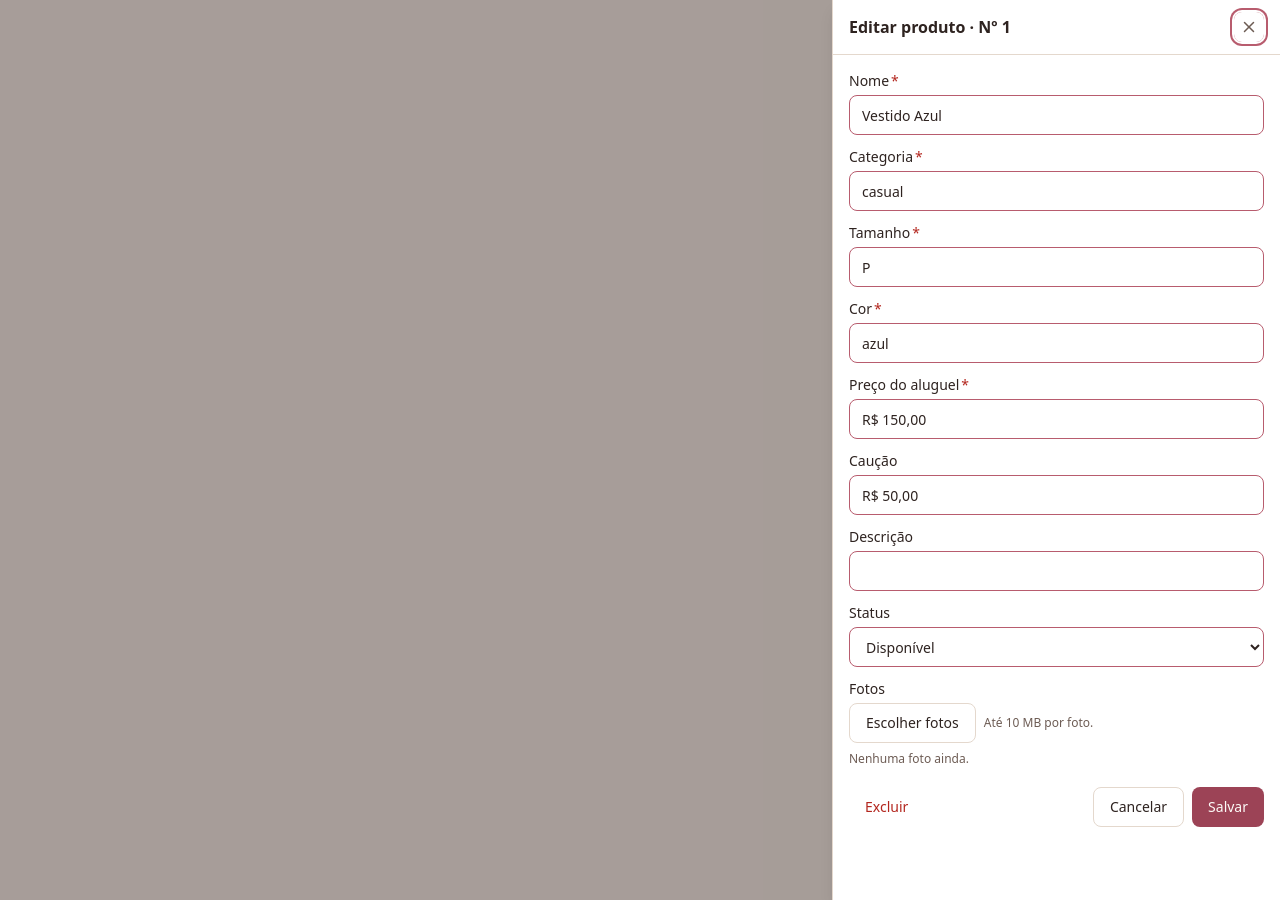
Test case: ProductDrawer › asks for confirmation before deleting, and does not delete if confirmation is dismissed
Click the button "Excluir".
click(887, 807)  # box top-left (849, 787), bottom-right (924, 827)
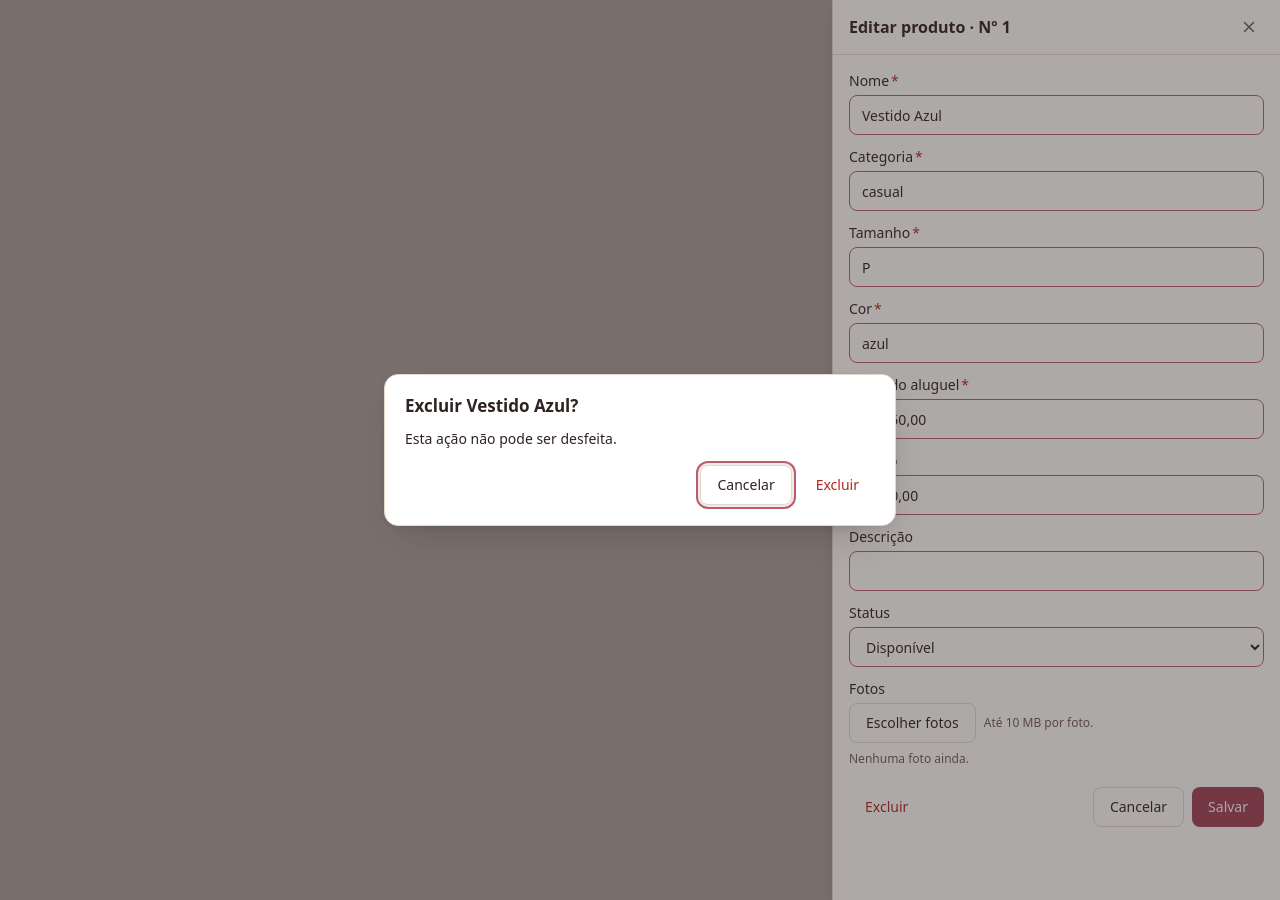
Now the heading "Excluir Vestido Azul?" is shown, box top-left (405, 394), bottom-right (578, 417)
Press Escape
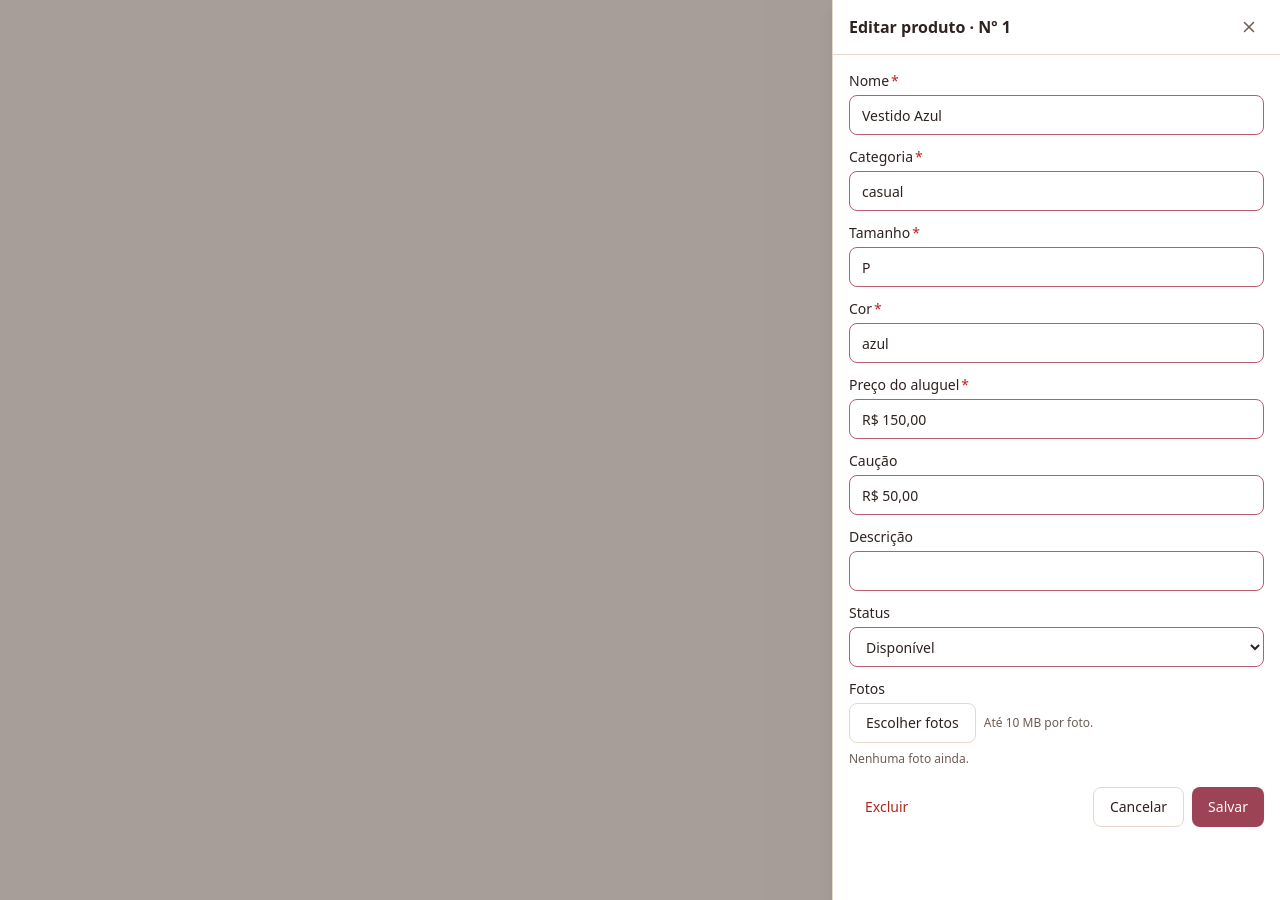
Expected: the dialog "Editar produto · Nº 1" is shown, top-left (832, 0), bottom-right (1279, 899)
Now the heading "Excluir Vestido Azul?" is gone
